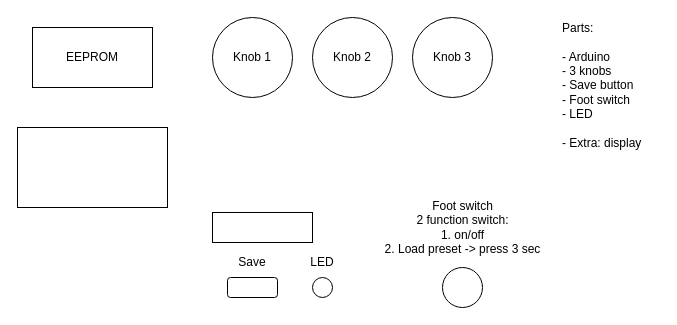
This 677x325 diagram has some shape labels left out. Here are the shapes that lost their labels. From the top down, the centre of each, then its label:
the point at 92,167: Arduino
the point at 262,227: Display
